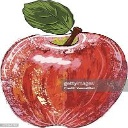apple: (1, 25, 128, 128)
